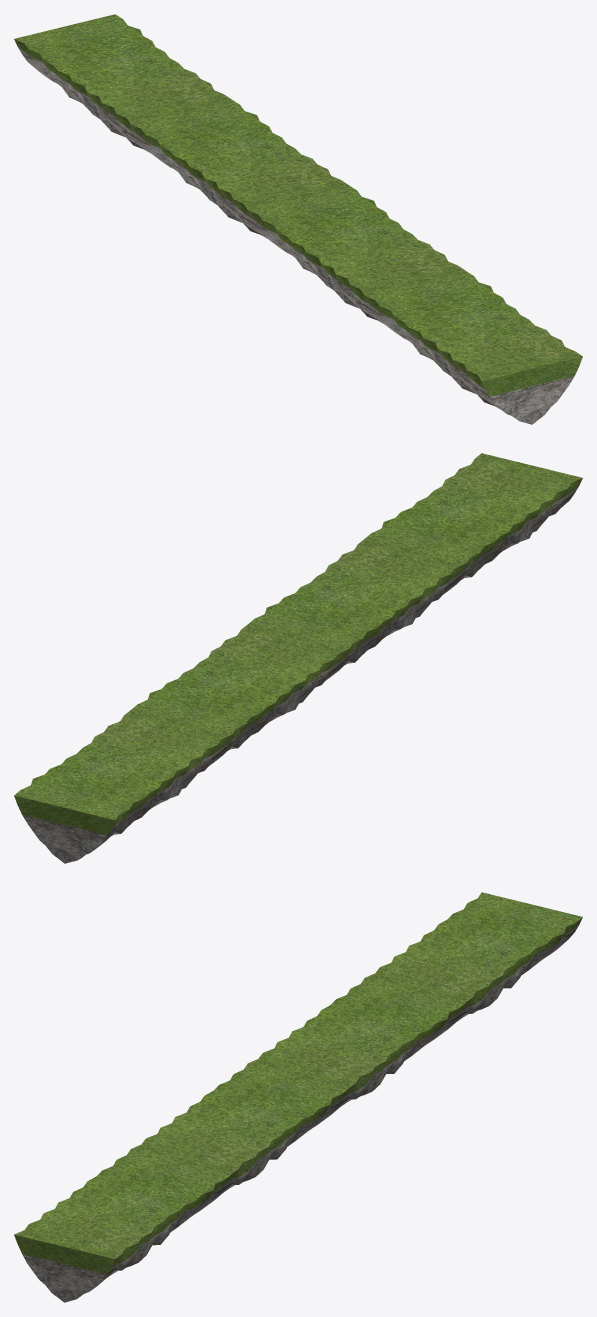
Rendered from Road_Straight4x.FBX.
3 renders of one model, top to bottom at view 1: azimuth 30°, elevation 25°; view 2: azimuth 150°, elevation 25°; view 3: azimuth 330°, elevation 25°, orthographic.
Parts seen in each view (by area): view 1: Straight_Way_Long_Final003; view 2: Straight_Way_Long_Final003; view 3: Straight_Way_Long_Final003.
Part boxes in pixels (x1,y1,x2,y2): Straight_Way_Long_Final003: (14,14,582,424); Straight_Way_Long_Final003: (14,453,582,863); Straight_Way_Long_Final003: (14,892,582,1302).
Bounding box in the file's own units: 412 × 230 × 3200.
